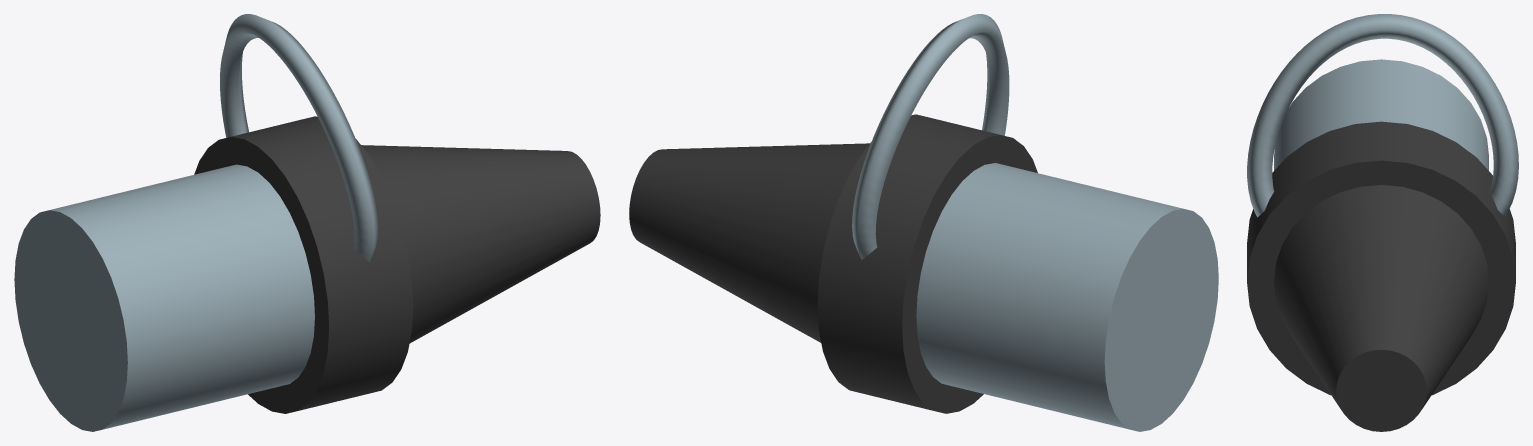
Rendered from Handle.fbx.
The picture shows the model from 3 angles, left to right: view 1: azimuth 30°, elevation 25°; view 2: azimuth 150°, elevation 25°; view 3: azimuth 270°, elevation 25°; orthographic projection. The views are drawn at different scales.
Visible parts, largest first — view 1: Cylinder.004, NurbsPath.001; view 2: Cylinder.004, NurbsPath.001; view 3: Cylinder.004, NurbsPath.001.
Boxes of the visible parts, x1,y1,x2,y2 form: Cylinder.004: (14,116,600,431); NurbsPath.001: (220,14,378,261); Cylinder.004: (629,114,1218,431); NurbsPath.001: (852,14,1009,259); Cylinder.004: (1247,59,1515,431); NurbsPath.001: (1247,14,1518,217).
Size of the model in its own units: 21.76 by 15.5 by 10.69.
Materials: 1 (1 with a texture image).
